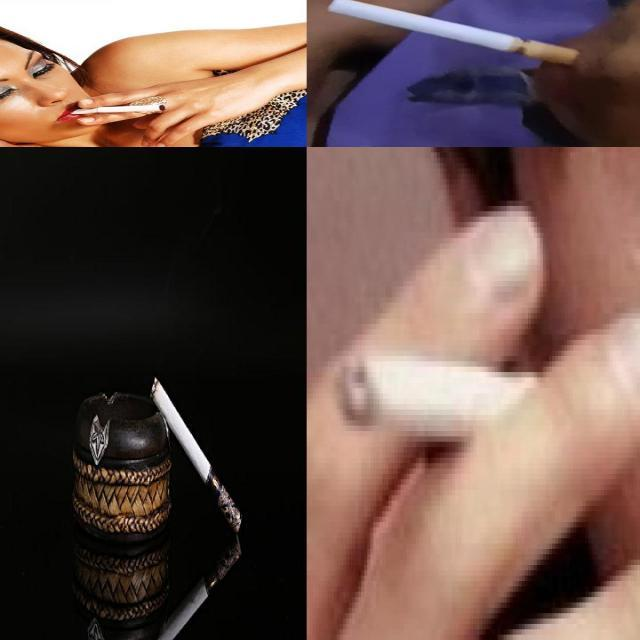smoking: (334, 354, 576, 450), (326, 0, 585, 67), (149, 375, 243, 535), (156, 536, 242, 640), (70, 104, 166, 114)
